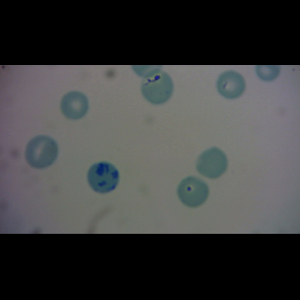aggregate reticulocyte: (86, 161, 120, 194)
erythrocyte: (177, 176, 210, 208), (196, 147, 228, 180), (60, 91, 90, 120), (216, 70, 246, 99)
punctate reticulocyte: (23, 135, 60, 170), (141, 69, 173, 105)
